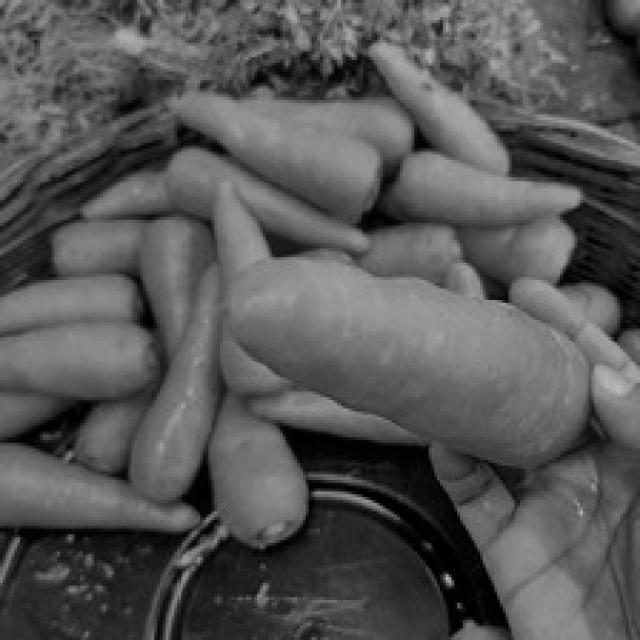Fresh_Carrot: (215, 266, 608, 461), (173, 83, 384, 228), (137, 269, 220, 497), (396, 148, 640, 224), (7, 440, 189, 532), (2, 330, 158, 397)
